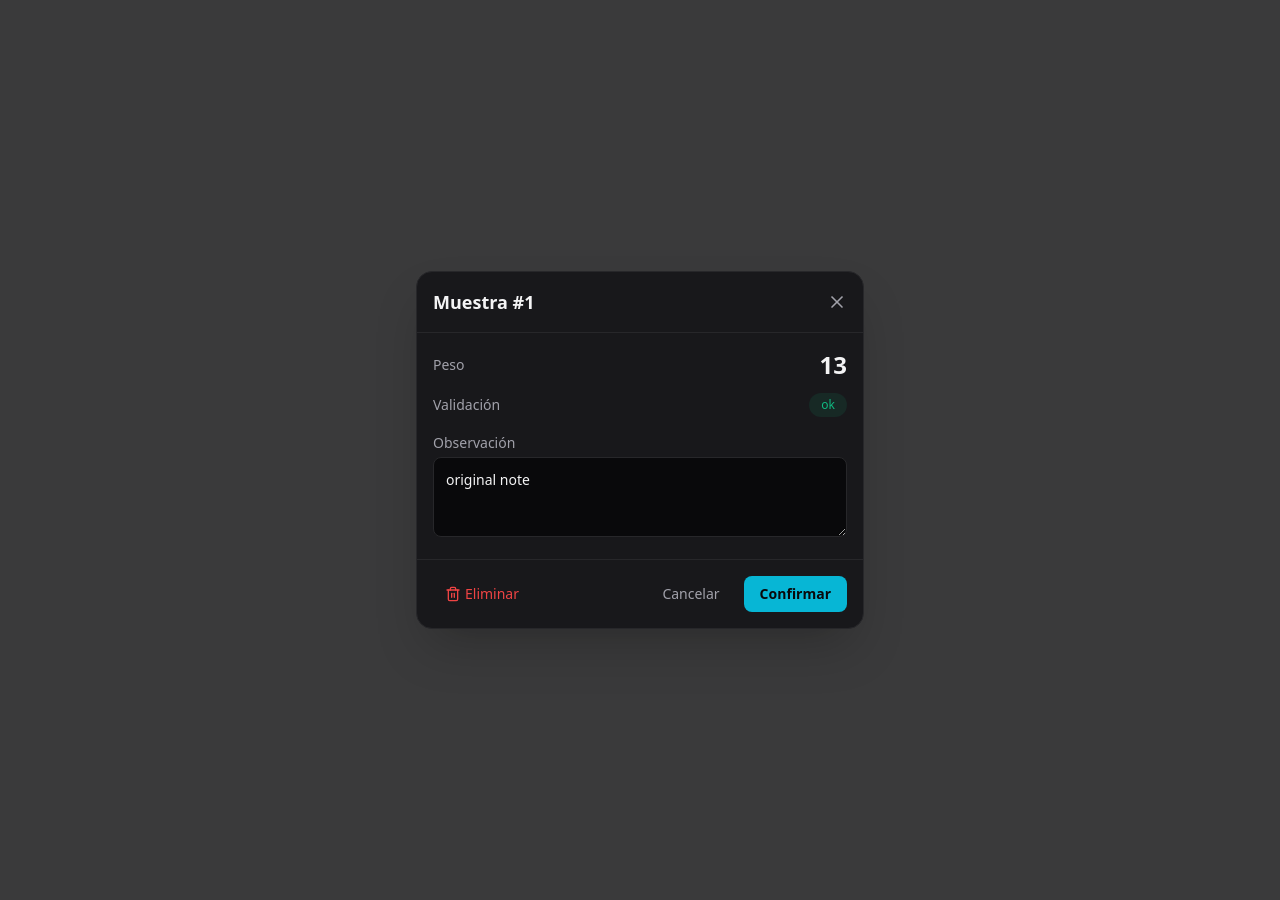
Test: MuestraObservacionPopup › shows a connection message when the server cannot be reached
Click the button "Confirmar": (795, 594) x1=744 y1=576 x2=847 y2=612
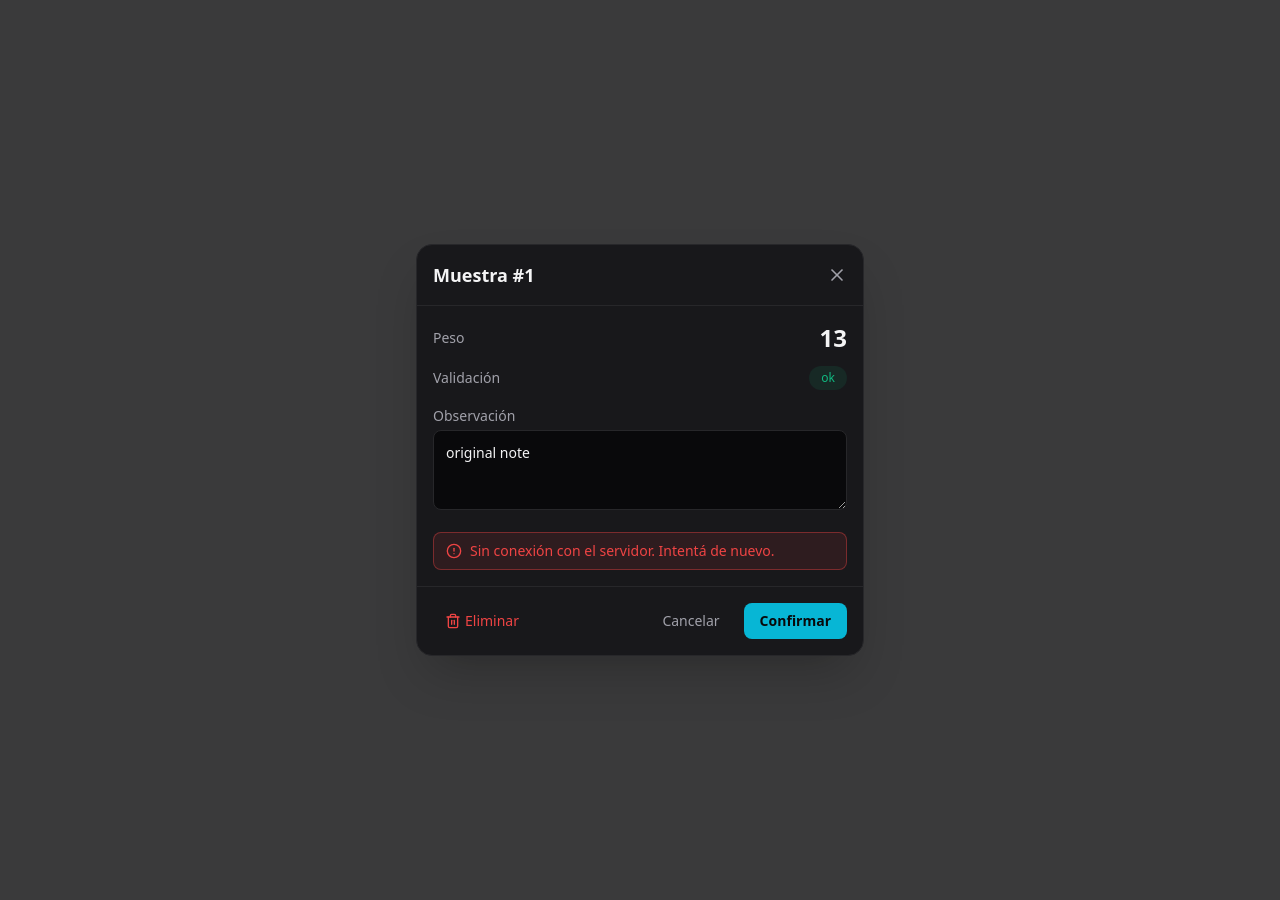
Expected: the message shows "Sin conexión con el servidor", x1=470 y1=541 x2=774 y2=560
